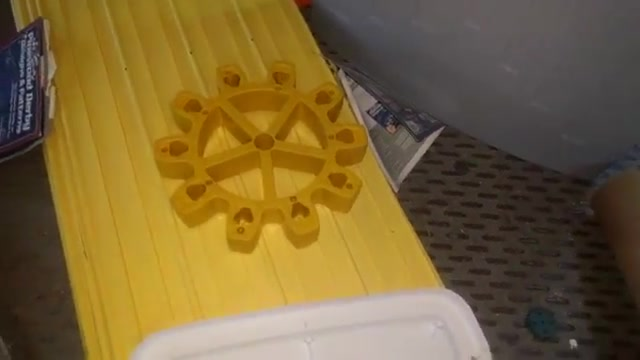gear: (153, 55, 373, 254)
